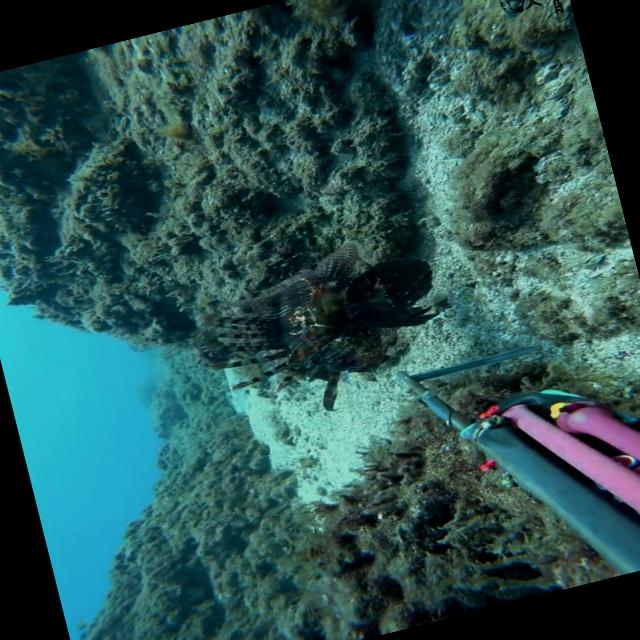Aslan Baligi: (183, 202, 465, 434)
